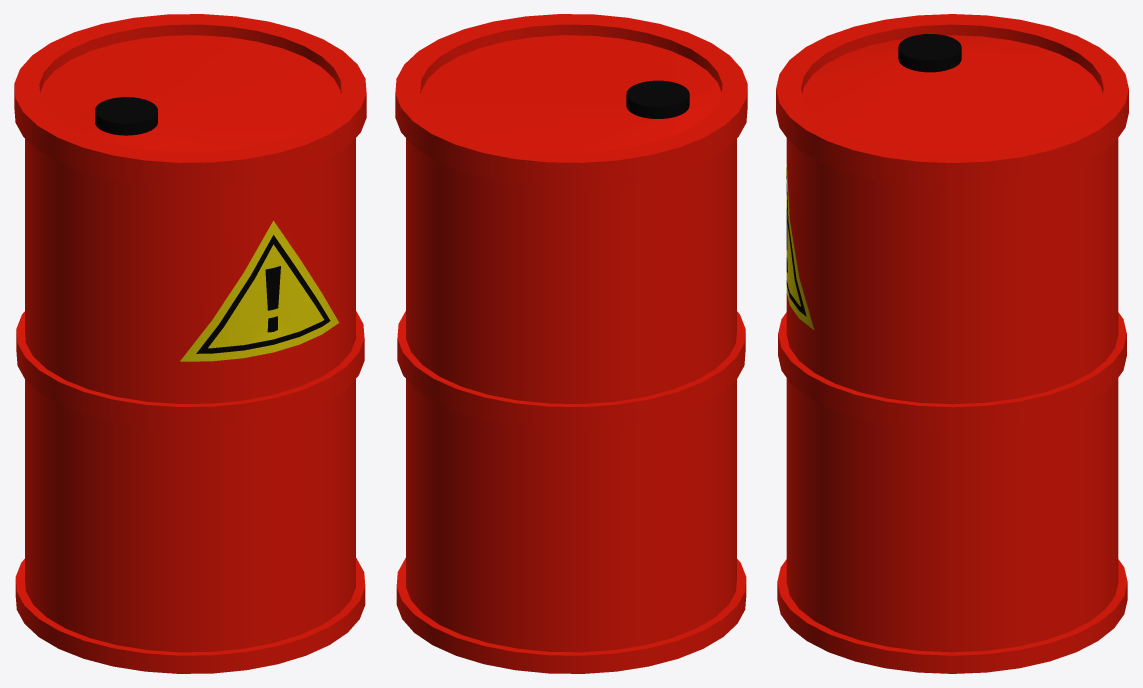
File: barrel.fbx
The picture shows the model from 3 angles, left to right: view 1: azimuth 30°, elevation 25°; view 2: azimuth 150°, elevation 25°; view 3: azimuth 270°, elevation 25°; orthographic projection.
Visible parts, largest first — view 1: barrel; view 2: barrel; view 3: barrel.
Part boxes in pixels (x1,y1,x2,y2): barrel: (14,14,366,673); barrel: (395,14,747,673); barrel: (776,14,1128,673).
Size of the model in its own units: 58.72 by 94.76 by 58.72.
